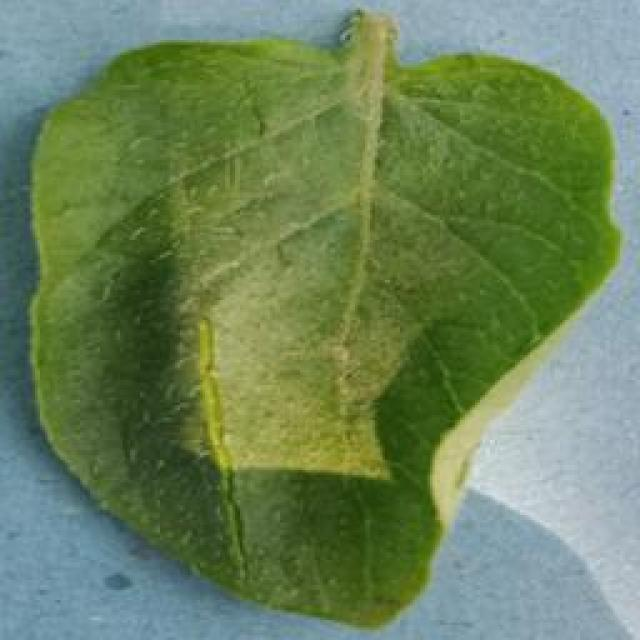Potato_Healthy: (29, 10, 620, 631)
